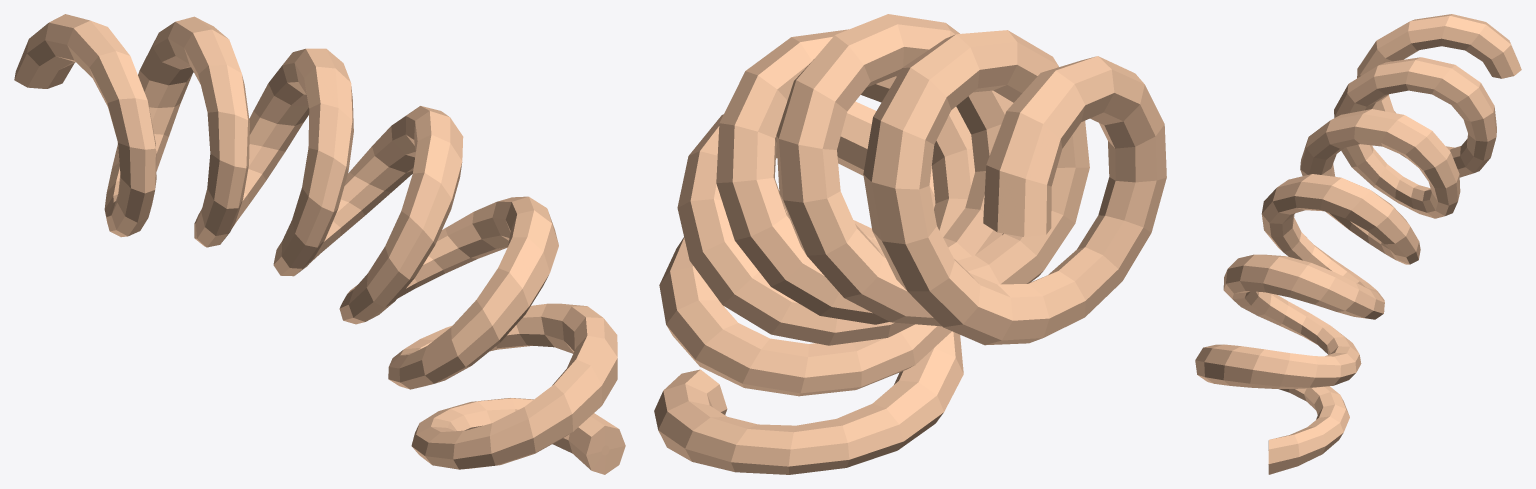
File: scrap_spring.fbx
The picture shows the model from 3 angles, left to right: view 1: azimuth 30°, elevation 25°; view 2: azimuth 150°, elevation 25°; view 3: azimuth 270°, elevation 25°; orthographic projection. The views are drawn at different scales.
Visible parts, largest first — view 1: Spring; view 2: Spring; view 3: Spring.
Boxes of the visible parts, <box> form: Spring: <box>14,14,625,474</box>; Spring: <box>654,14,1166,474</box>; Spring: <box>1195,14,1521,474</box>.
Size of the model in its own units: 349 by 389 by 383.
